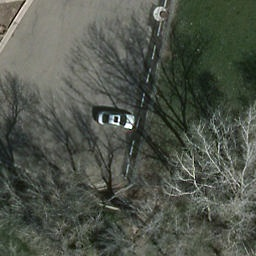car: (98, 111, 135, 129)
